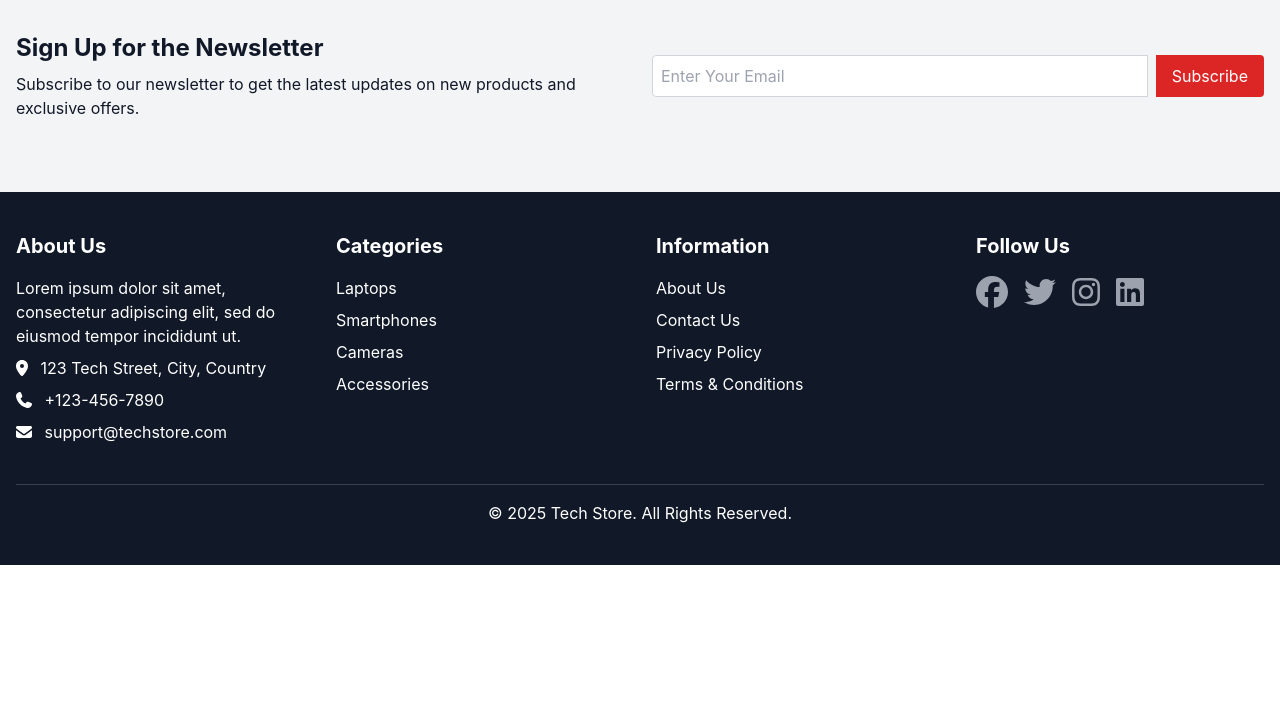
Footer Component › handles newsletter subscription successfully
Type "test@example.com" into the field with placeholder "Enter Your Email" at (900, 76), box [652,55,1148,97]
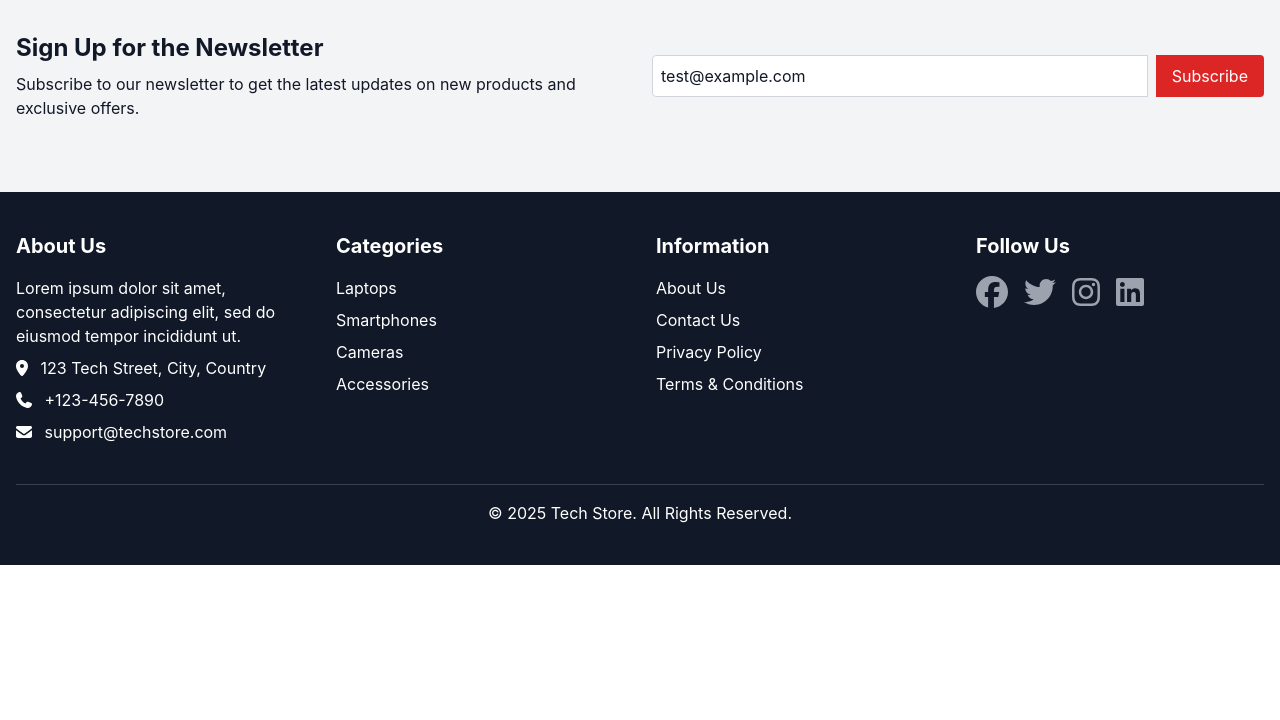
Click the button "Subscribe" at (1210, 76), box [1156,55,1264,97]
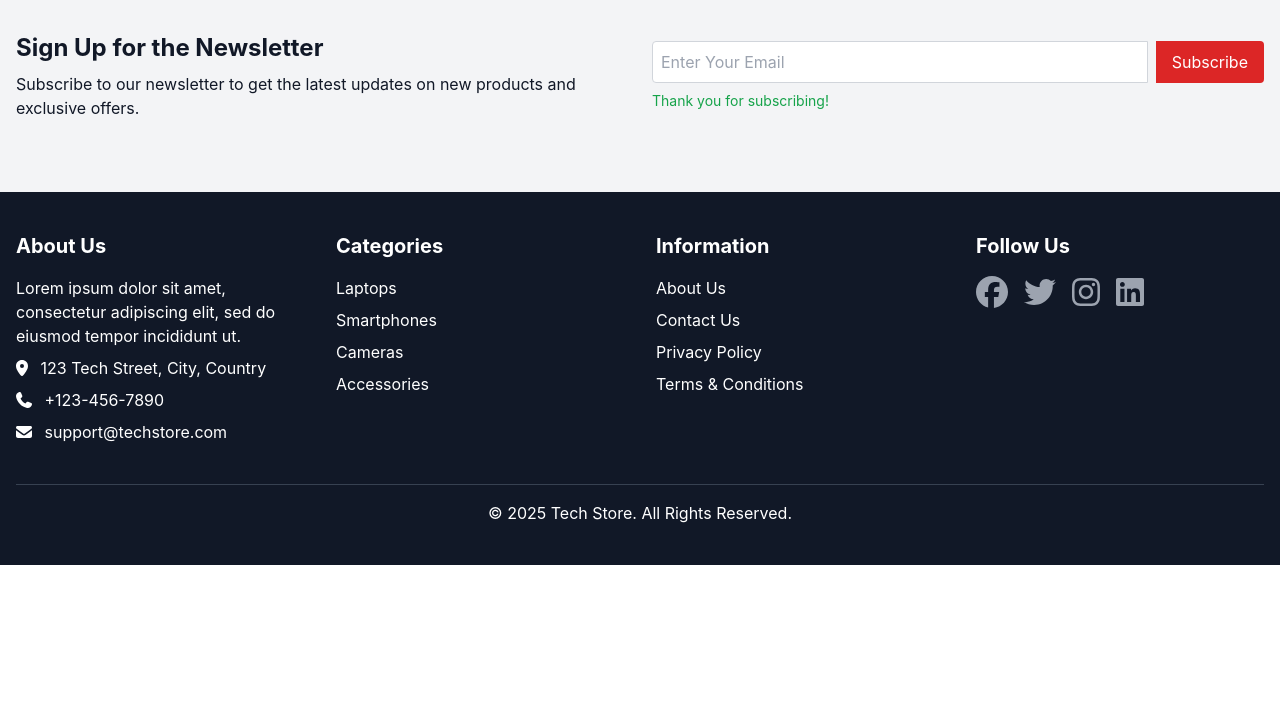
Now the text "Thank you for subscribing!" is shown, box [652,92,829,109]
